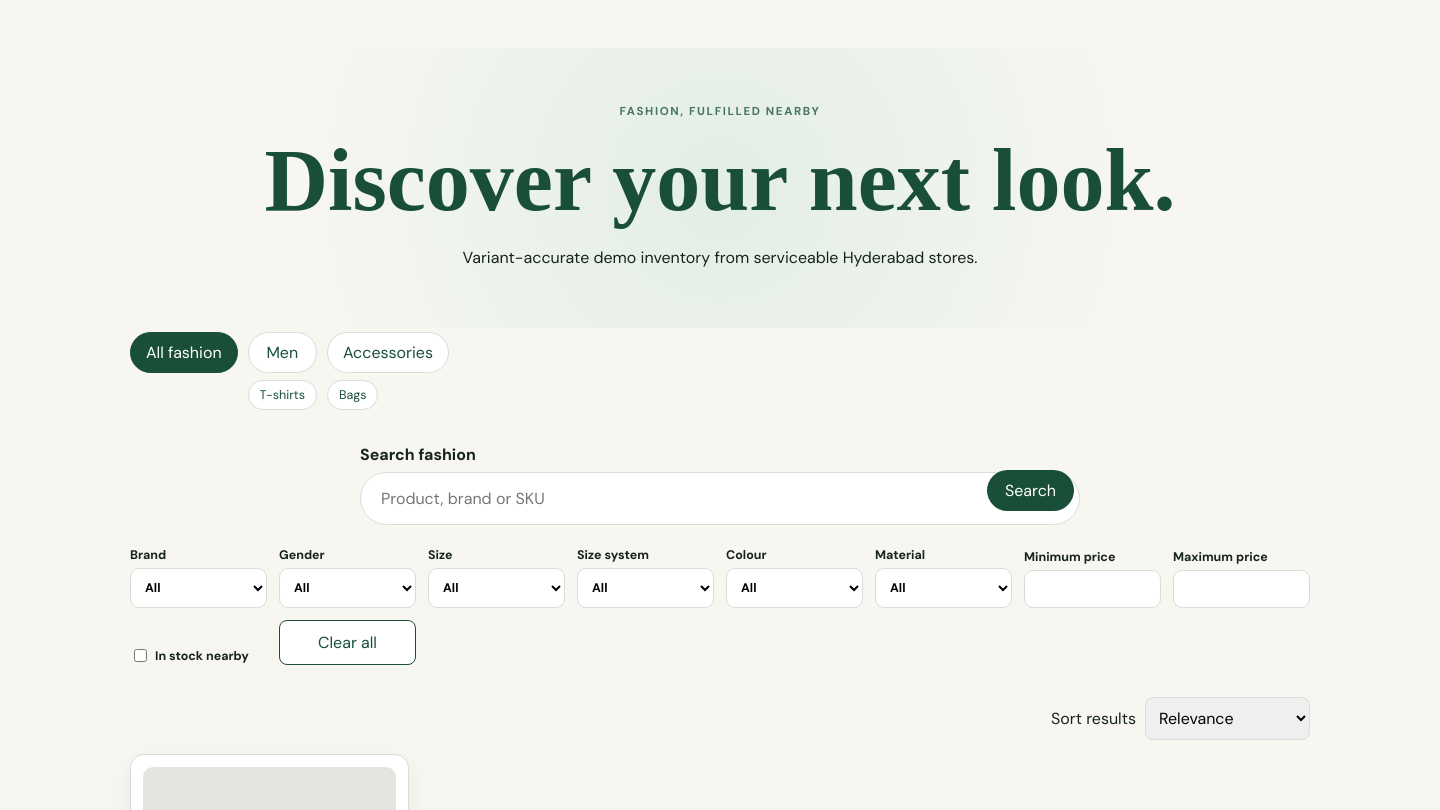
Test case: completed discovery experience › browses API categories, combines filters, exposes chips, and clears them
Expected: the button "Men" is shown, [248, 332, 317, 373]
Click the button "T-shirts": [282, 395] box [248, 380, 317, 410]
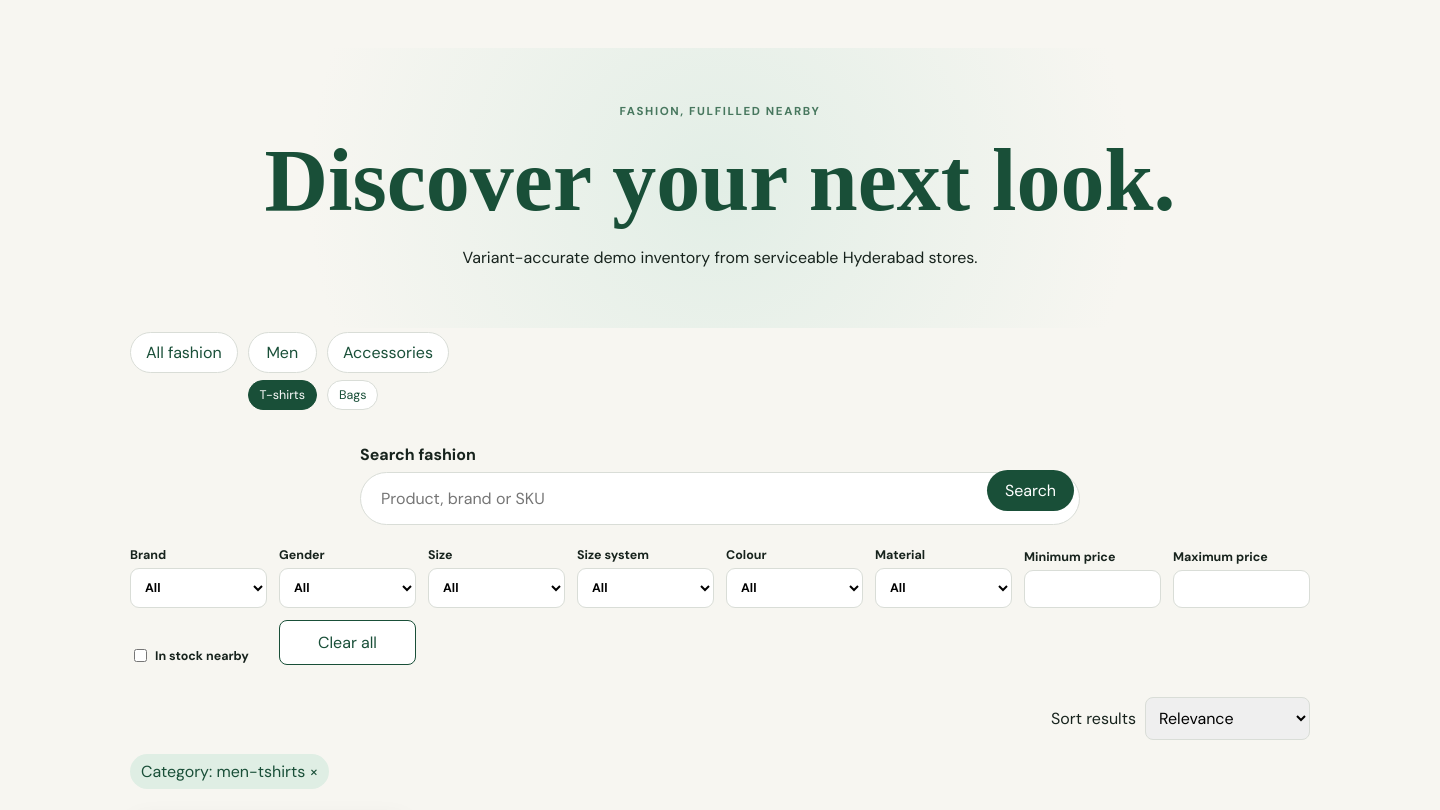
Select "ThreadLane" in the dropdown labelled "Brand": [198, 588] box [130, 568, 267, 608]
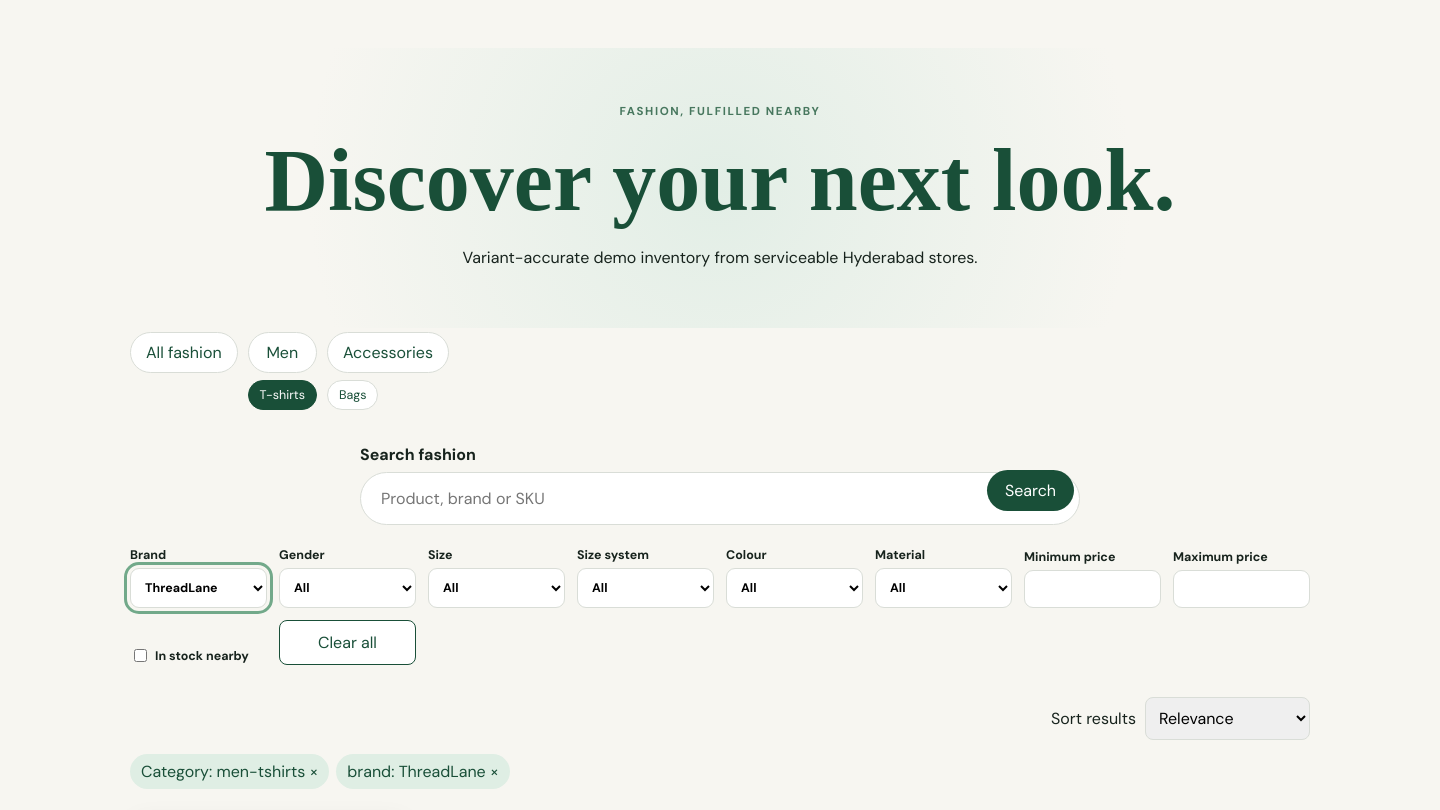
Select "Black" in the dropdown labelled "Colour": [794, 588] box [726, 568, 863, 608]
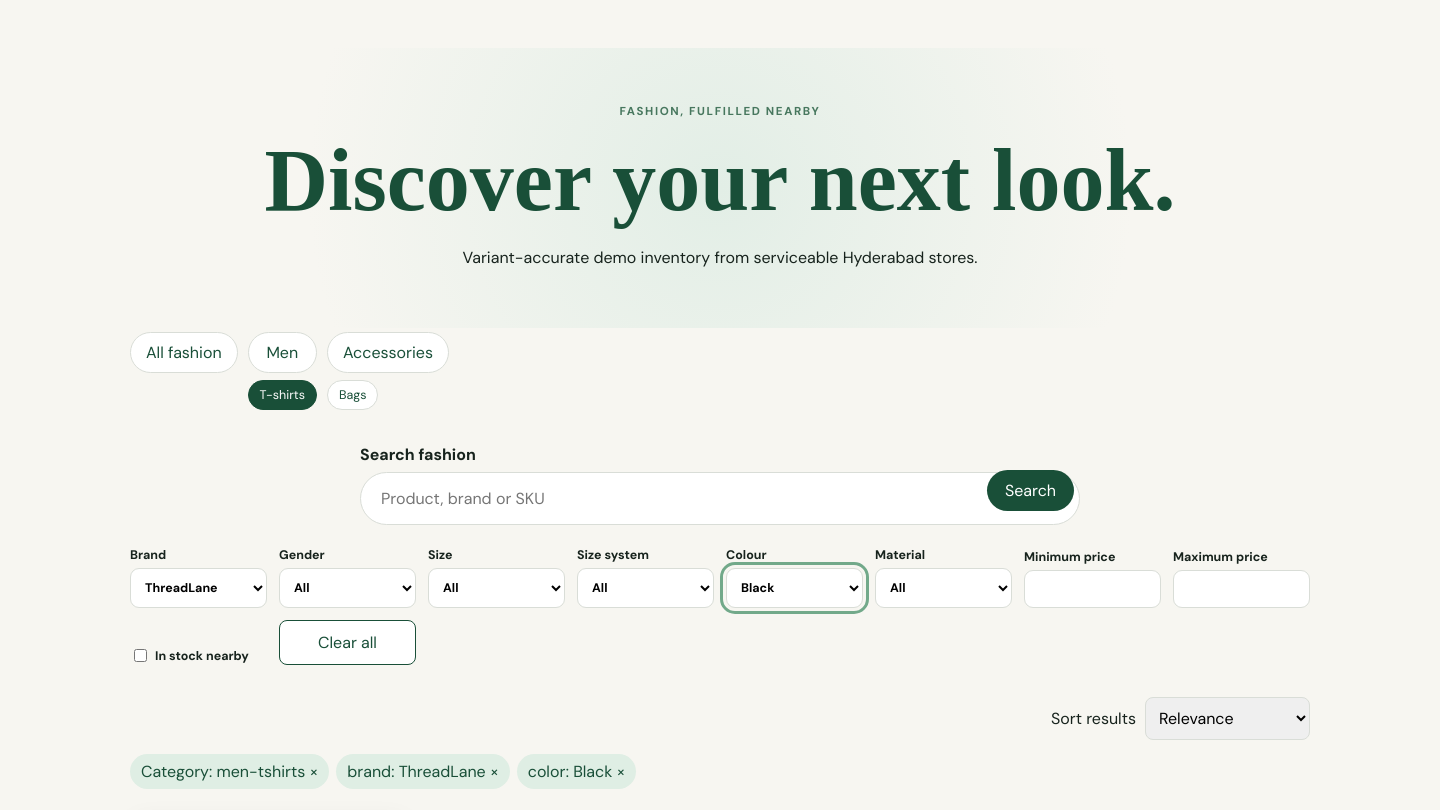
Expected: the button "brand: ThreadLane ×" is shown, [336, 754, 510, 789]
Click the button "Clear all": [348, 642] box [279, 620, 416, 665]
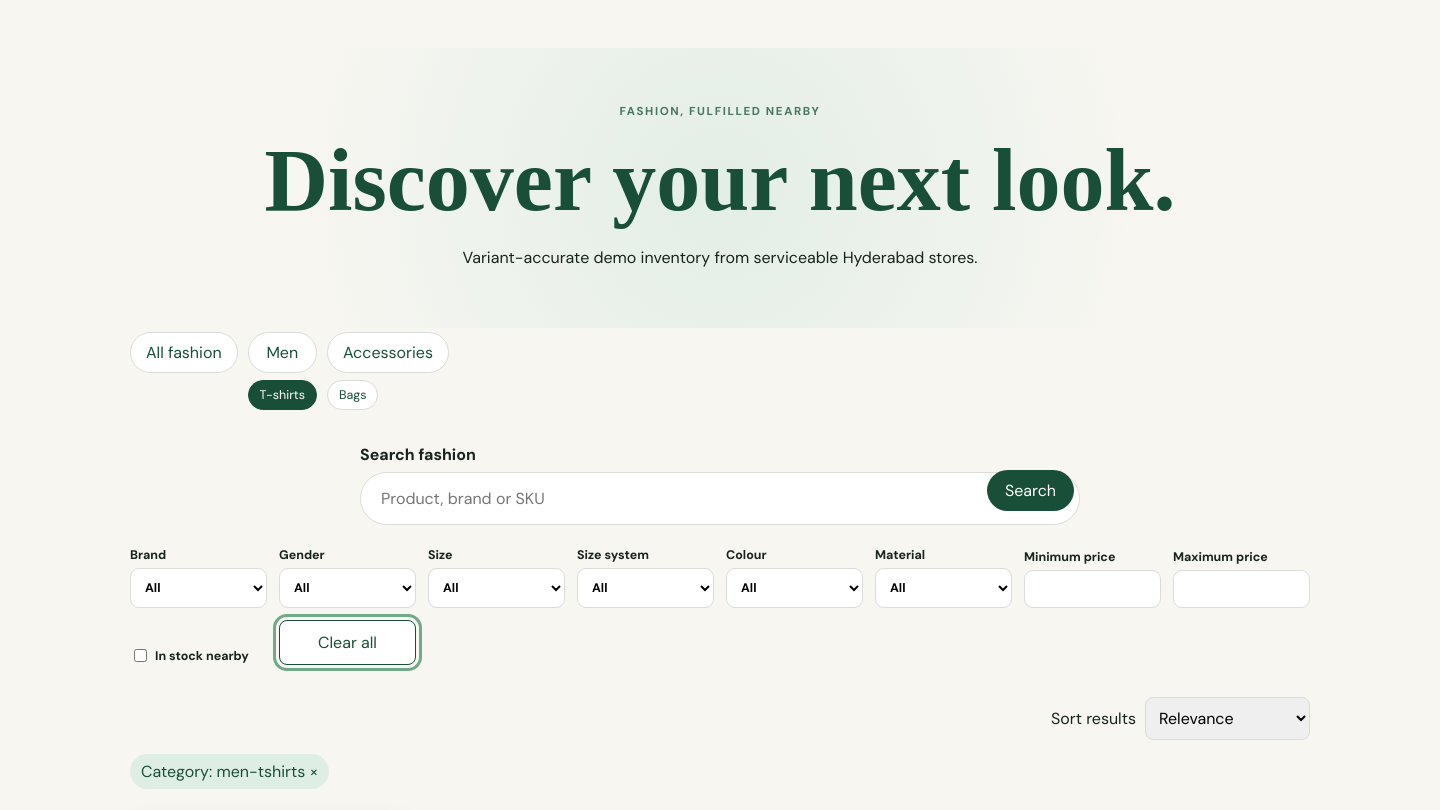
Expected: the button "brand:" is gone
